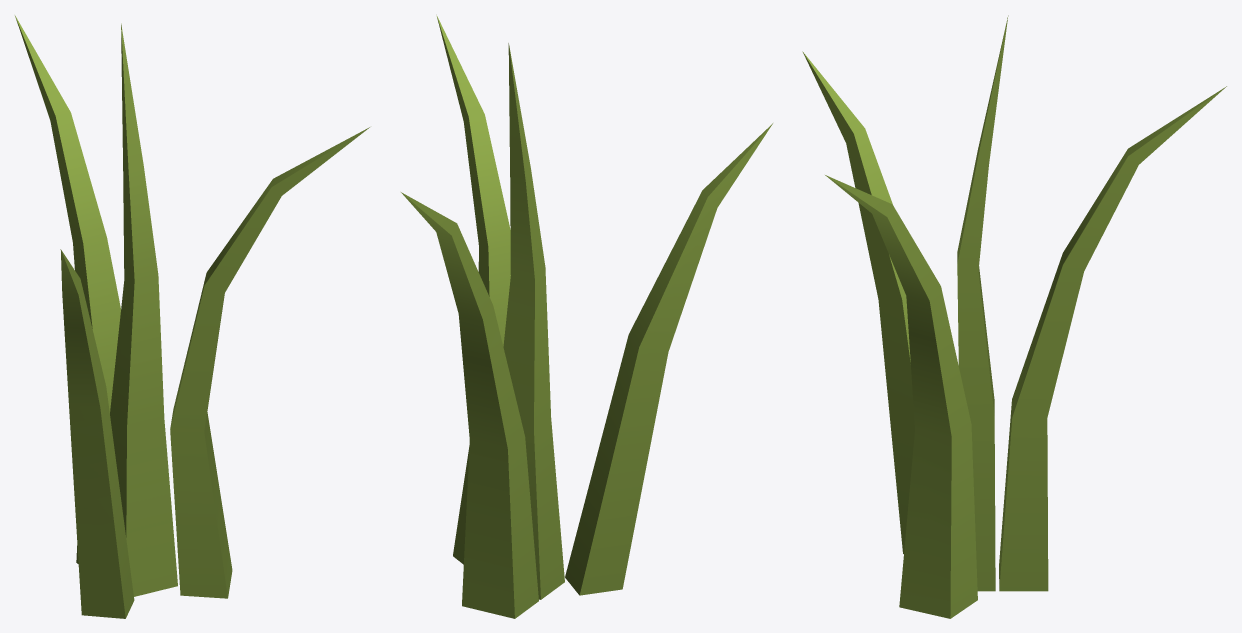
The model's file is Spring_Grass_04.glb.
The picture shows the model from 3 angles, left to right: view 1: azimuth 30°, elevation 25°; view 2: azimuth 150°, elevation 25°; view 3: azimuth 270°, elevation 25°; orthographic projection. The views are drawn at different scales.
Parts seen in each view (by area): view 1: Spring_Grass_04_LOD0; view 2: Spring_Grass_04_LOD0; view 3: Spring_Grass_04_LOD0.
Part boxes in pixels (x1,y1,x2,y2): Spring_Grass_04_LOD0: (15,15,369,618); Spring_Grass_04_LOD0: (401,15,772,618); Spring_Grass_04_LOD0: (802,15,1226,618).
Size of what is drawn, in the model's own units: 0.2365 by 0.3869 by 0.2637.
Materials: 1 (1 with a texture image).
